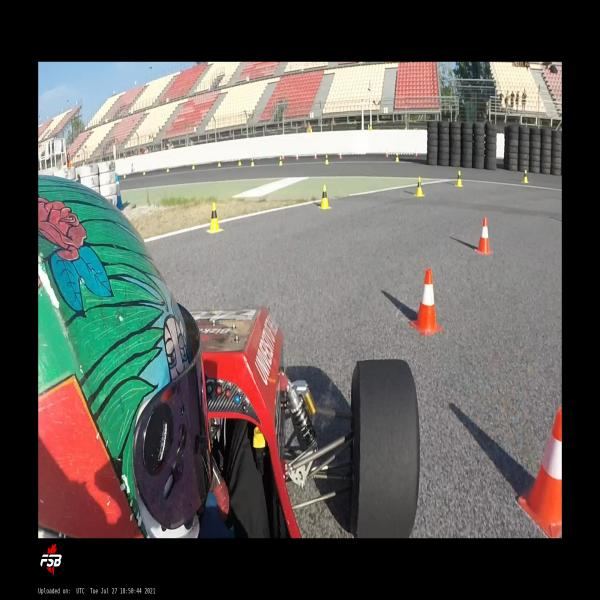blue_cone: (116, 176, 124, 209)
orange_cone: (518, 406, 561, 538), (409, 269, 443, 336), (474, 217, 493, 255), (385, 150, 389, 158), (338, 152, 342, 160), (296, 152, 300, 160), (314, 151, 317, 160), (257, 154, 260, 161), (415, 151, 418, 157), (282, 152, 284, 160), (231, 156, 233, 162)
unknown_cone: (143, 168, 146, 176)
yellow_cone: (208, 202, 222, 233), (318, 184, 332, 209), (413, 176, 425, 197), (454, 170, 463, 187), (522, 168, 530, 184), (325, 154, 330, 165), (395, 152, 400, 162), (279, 156, 283, 166), (251, 158, 255, 167), (238, 157, 242, 166), (192, 160, 195, 170), (166, 165, 170, 172), (218, 159, 221, 167), (143, 169, 146, 176)
